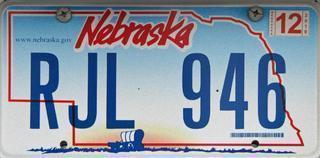placa de veiculo: (3, 1, 307, 152)
